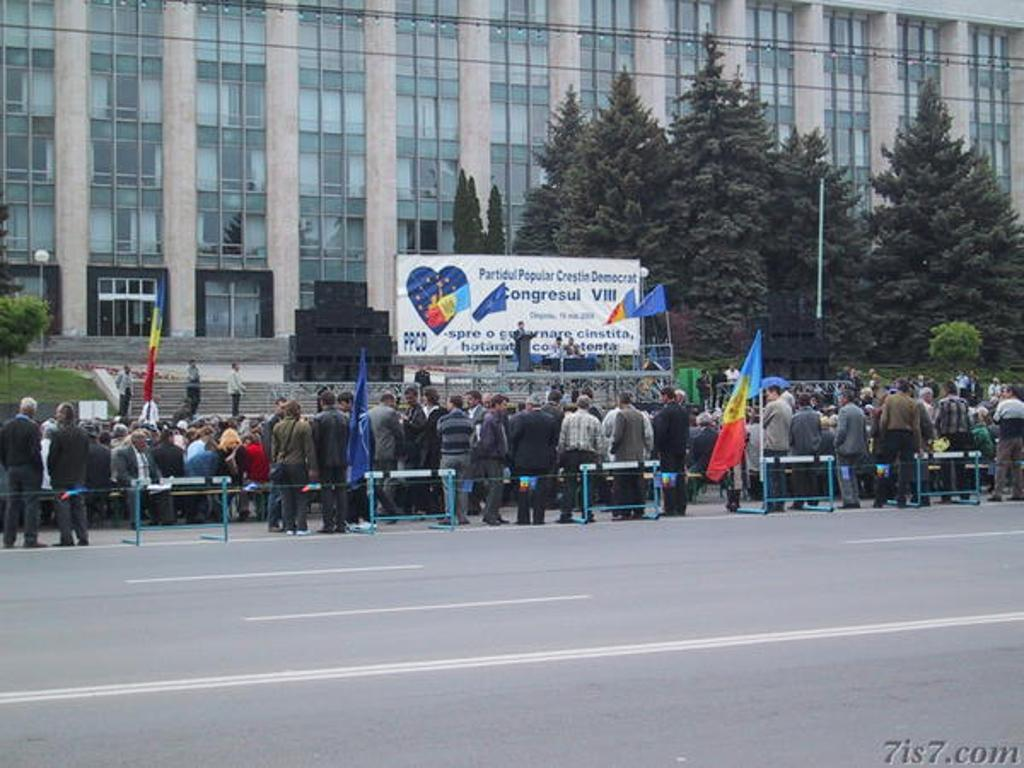face: (228, 437, 238, 452), (340, 402, 353, 413), (57, 410, 68, 422), (138, 437, 146, 451), (767, 391, 776, 403), (467, 396, 477, 406), (498, 401, 507, 412), (922, 390, 931, 400), (1003, 389, 1011, 399), (406, 394, 413, 403), (447, 401, 453, 410), (662, 394, 669, 401), (127, 367, 132, 373), (191, 362, 196, 367), (520, 323, 525, 328), (235, 364, 239, 370), (570, 340, 574, 345), (557, 340, 561, 344)
